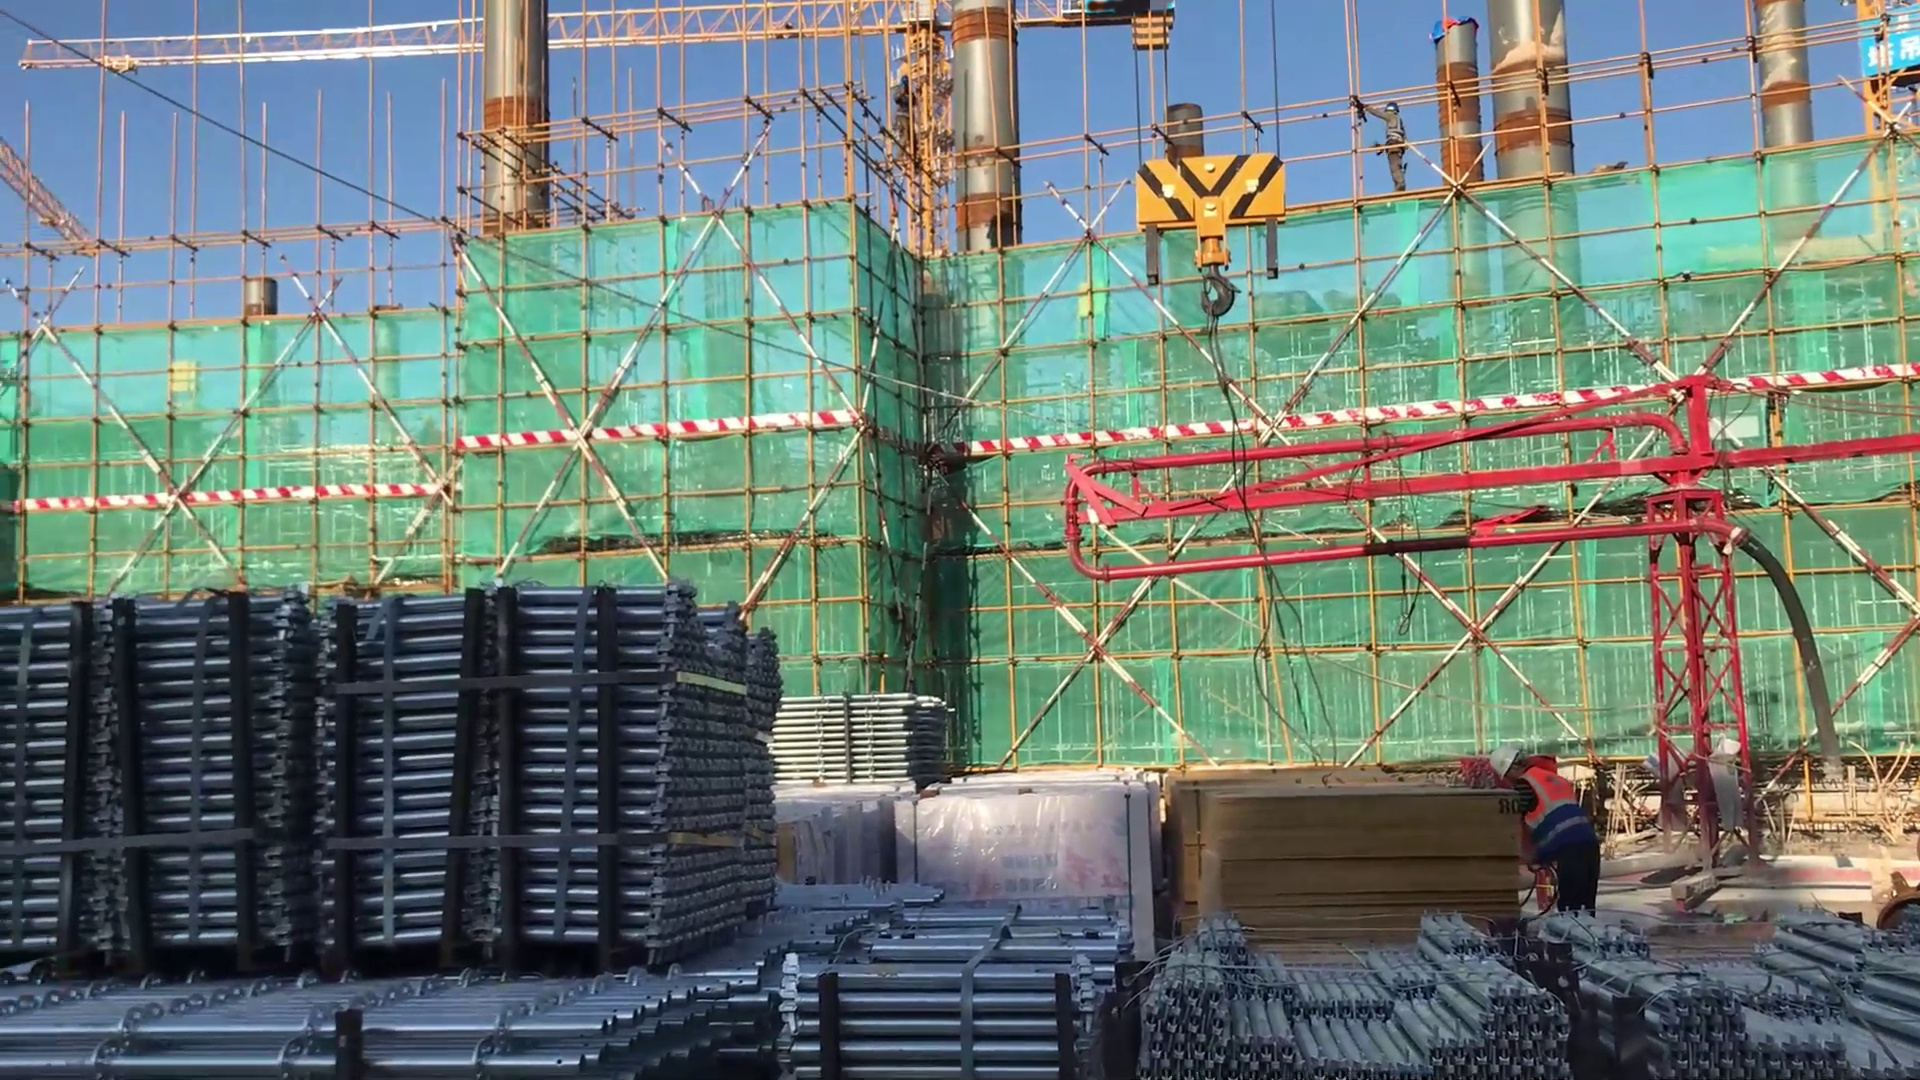board: (1163, 769, 1523, 937)
helmet: (1485, 741, 1522, 783), (1381, 98, 1406, 119)
hook: (1129, 141, 1290, 339)
person: (1492, 735, 1623, 943), (1349, 86, 1410, 201)
scaffold: (8, 598, 773, 949), (788, 882, 1920, 1074), (1, 892, 941, 1079), (786, 691, 961, 801)
slogan: (1862, 9, 1920, 88)
vest: (1513, 766, 1599, 861), (1385, 116, 1408, 153)
